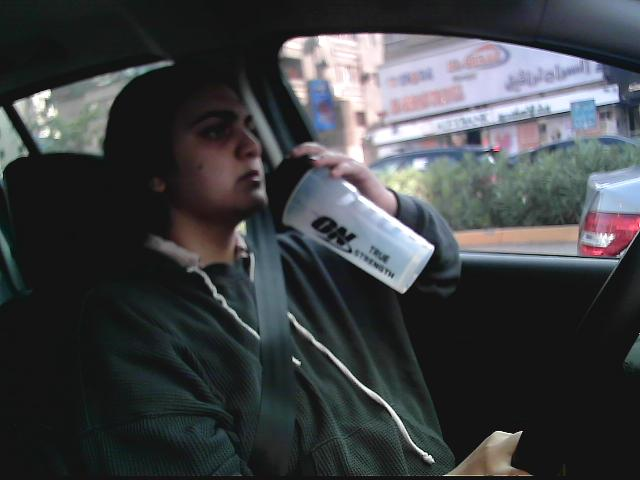Drinking: (260, 147, 440, 295)
